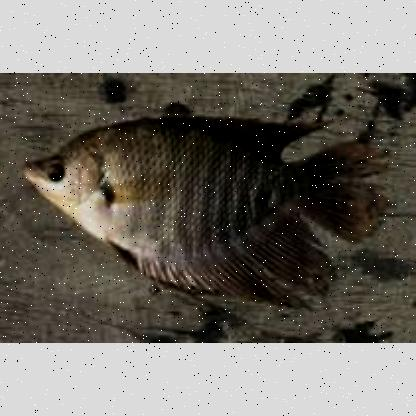gurame: (23, 111, 379, 303)
